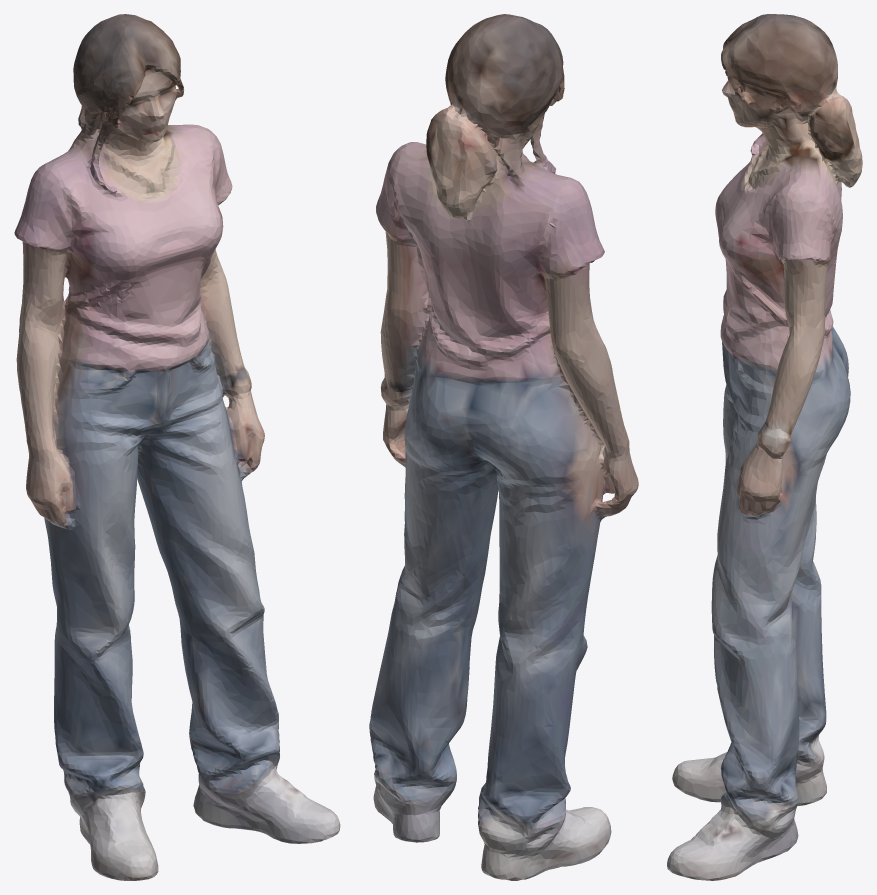
Rendered from mom.glb.
The picture shows the model from 3 angles, left to right: view 1: azimuth 30°, elevation 25°; view 2: azimuth 150°, elevation 25°; view 3: azimuth 270°, elevation 25°; orthographic projection. The views are drawn at different scales.
Visible parts, largest first — view 1: world; view 2: world; view 3: world.
Part boxes in pixels (x1,y1,x2,y2): world: [14, 14, 340, 880]; world: [369, 14, 638, 880]; world: [667, 14, 862, 880].
Size of the model in its own units: 0.6882 by 1.96 by 0.4401.
